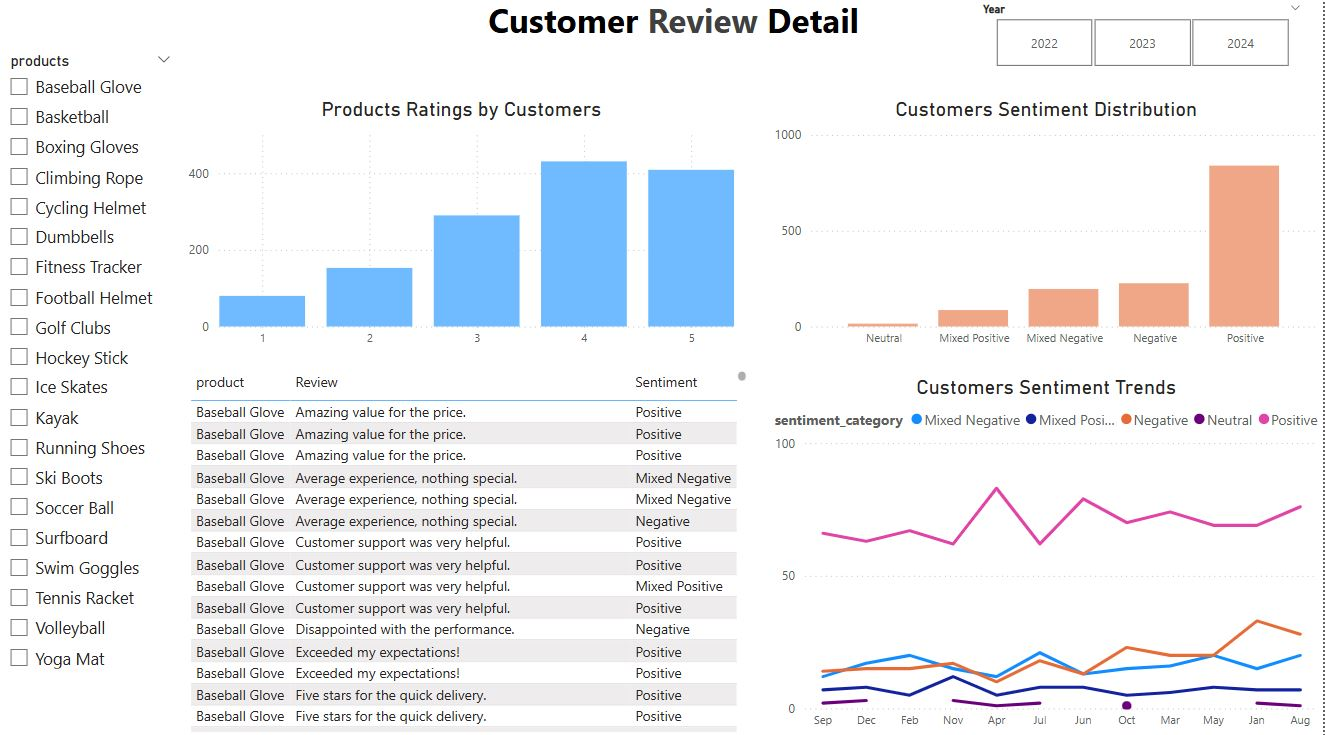

What the dashboard file says about the page in this screenshot:
{"tool":"powerbi","page":{"name":"Customers Review Detail","canvas":[1280,720],"ordinal":1},"visuals":[{"type":"textbox","box":[289.8,0,647.7,65.5],"z":0},{"type":"clusteredColumnChart","title":"Products Ratings by Customers","fields":{"Y":["Calculations.Number of Customer Reviews"],"Category":["Fact_Customer_Sentiment.rating"]},"box":[180.2,102.1,536.8,258.3],"z":1000},{"type":"slicer","fields":{"Values":["Calendar.Year"]},"box":[938,5.1,332.1,73.5],"z":2000},{"type":"slicer","fields":{"Values":["Product_Dim.product_Name"]},"box":[0,52.9,180.2,666.6],"z":3000},{"type":"clusteredColumnChart","title":"Customers Sentiment Distribution","fields":{"Y":["Calculations.Number of Customer Reviews"],"Category":["Fact_Customer_Sentiment.sentiment_category"]},"box":[746,102.1,534.3,258.3],"z":4000},{"type":"lineChart","title":"Customers Sentiment Trends","fields":{"Y":["Calculations.Number of Customer Reviews"],"Category":["Calendar.MonthNameShort"],"Series":["Fact_Customer_Sentiment.sentiment_category"]},"box":[746,370.5,534.3,349],"z":5000},{"type":"tableEx","fields":{"Values":["Dim_Product.product_Name","Fact_Customer_Sentiment.review_text","Fact_Customer_Sentiment.sentiment_category"]},"box":[180.7,360.2,547.2,359],"z":6000}]}

Visuals, with their boxes in screenshot pixels (x1, y1, x2, y2), scaled from the page's 1280x720 canvas onto the 1325x735 screenshot:
textbox: detection(300, 0, 970, 67)
"Products Ratings by Customers" clusteredColumnChart: detection(187, 104, 742, 368)
slicer - Calendar.Year: detection(971, 5, 1315, 80)
slicer - Product_Dim.product_Name: detection(0, 54, 187, 734)
"Customers Sentiment Distribution" clusteredColumnChart: detection(772, 104, 1324, 368)
"Customers Sentiment Trends" lineChart: detection(772, 378, 1324, 734)
tableEx - Dim_Product.product_Name x Fact_Customer_Sentiment.review_text: detection(187, 368, 753, 734)
